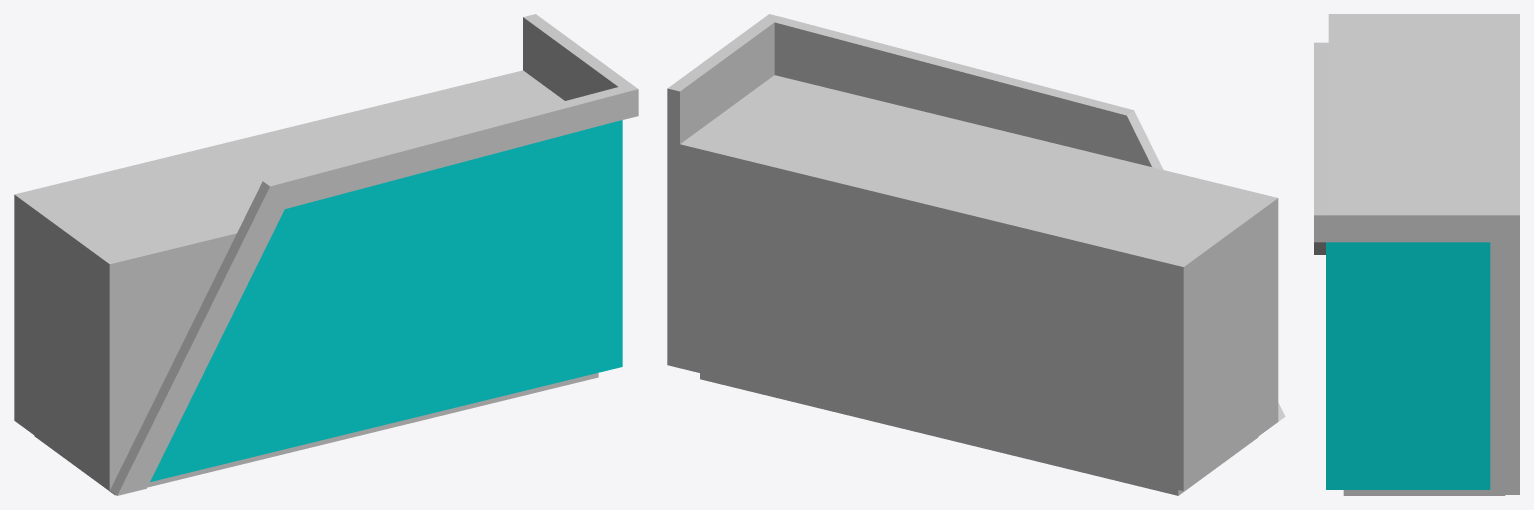
File: counter-set-02-01.glb
The picture shows the model from 3 angles, left to right: view 1: azimuth 30°, elevation 25°; view 2: azimuth 150°, elevation 25°; view 3: azimuth 270°, elevation 25°; orthographic projection.
Parts seen in each view (by area): view 1: 3DGeom-15, 3DGeom-13, 3DGeom-14; view 2: 3DGeom-13, 3DGeom-14; view 3: 3DGeom-15, 3DGeom-13, 3DGeom-14.
Boxes of the visible parts, box(x1,y1,x2,y2) form: 3DGeom-15: box(150, 120, 622, 481); 3DGeom-13: box(14, 70, 598, 495); 3DGeom-14: box(110, 14, 638, 495); 3DGeom-13: box(680, 75, 1278, 495); 3DGeom-14: box(667, 14, 1285, 421); 3DGeom-15: box(1326, 242, 1490, 489); 3DGeom-13: box(1328, 14, 1519, 495); 3DGeom-14: box(1314, 42, 1519, 494).
Bounding box in the file's own units: 2.05 × 1.1 × 0.7.
